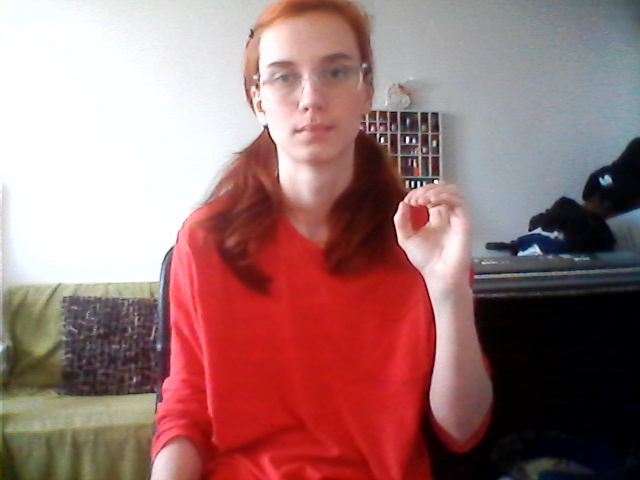o: (388, 171, 485, 305)
